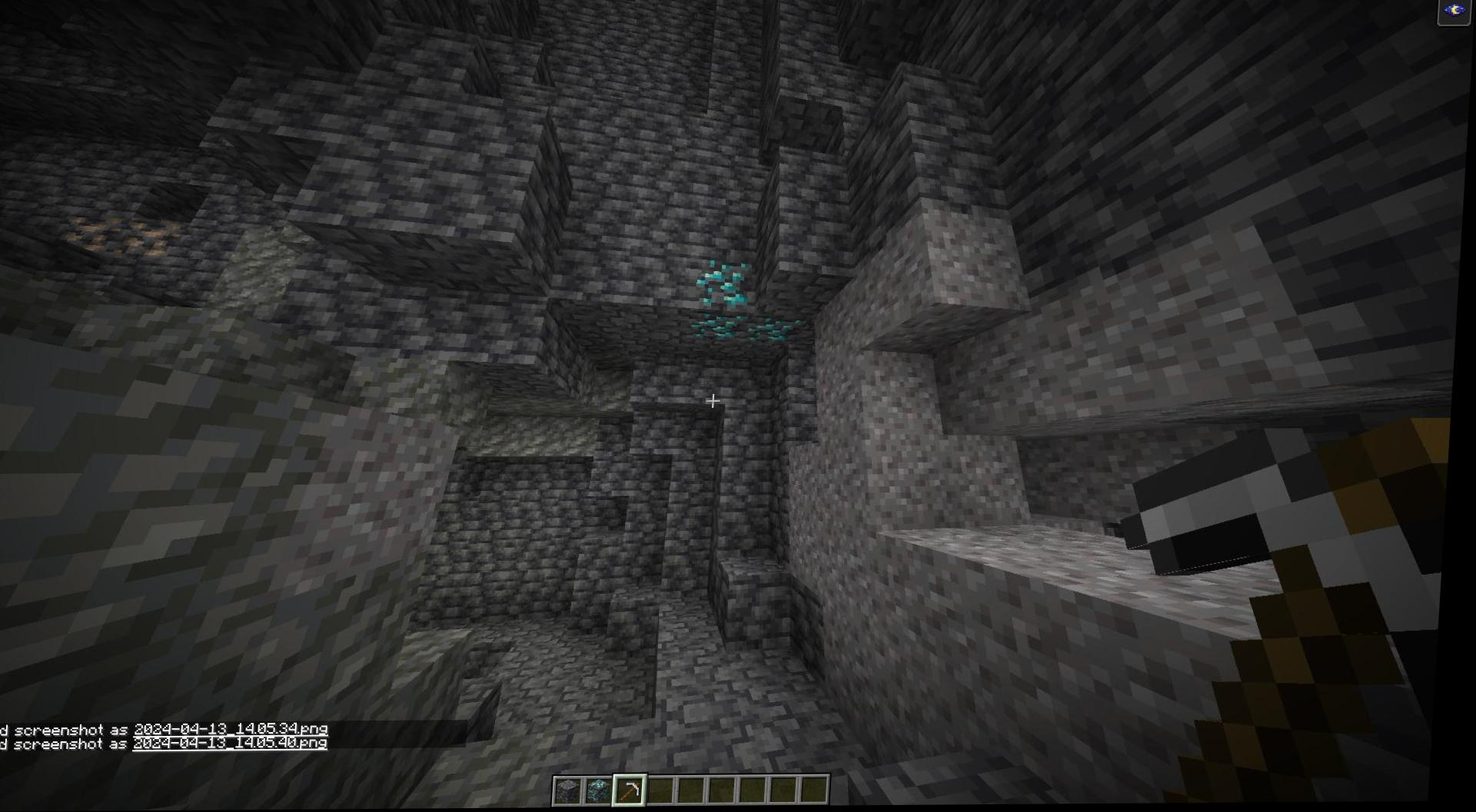diamond ore: (700, 256, 758, 311), (745, 316, 811, 349), (693, 312, 752, 346)
iron ore: (58, 211, 127, 260), (122, 214, 182, 263)
